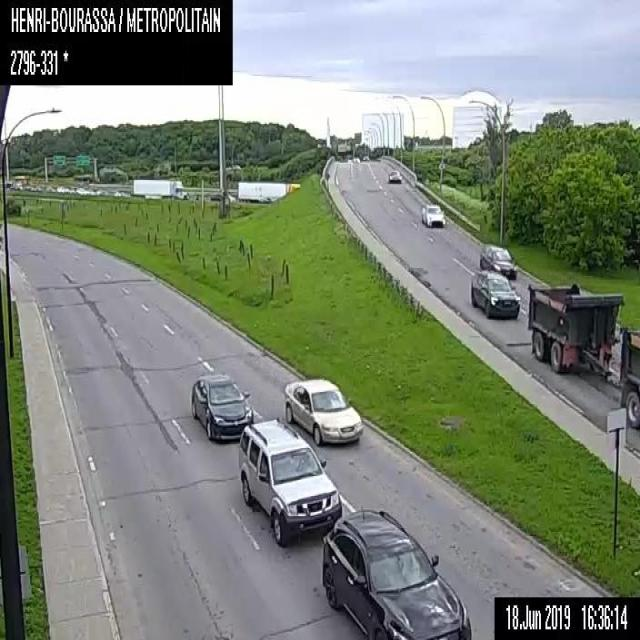vehicle: (320, 509, 471, 638), (528, 283, 639, 427), (239, 418, 340, 545), (284, 378, 361, 444), (191, 374, 253, 443), (469, 269, 520, 320), (236, 179, 300, 201), (479, 244, 516, 279), (131, 177, 188, 199), (420, 200, 445, 228), (210, 190, 232, 202), (388, 169, 401, 183)
